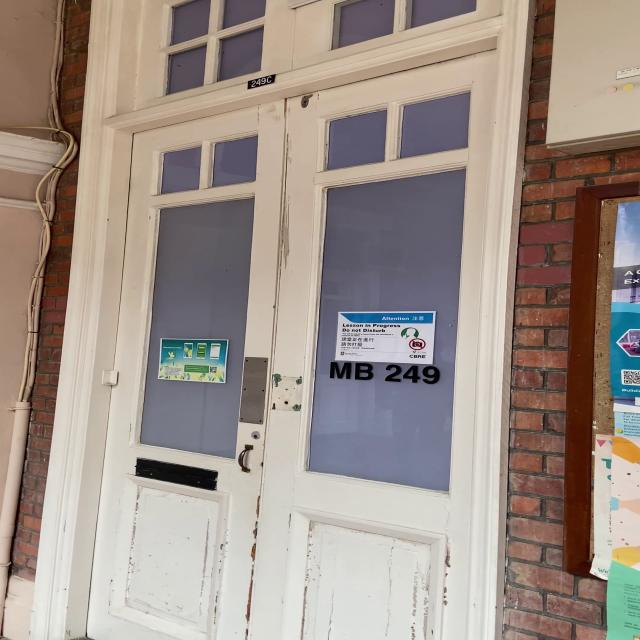room249c: (243, 72, 277, 90)
room249cWindow: (326, 359, 443, 386)
